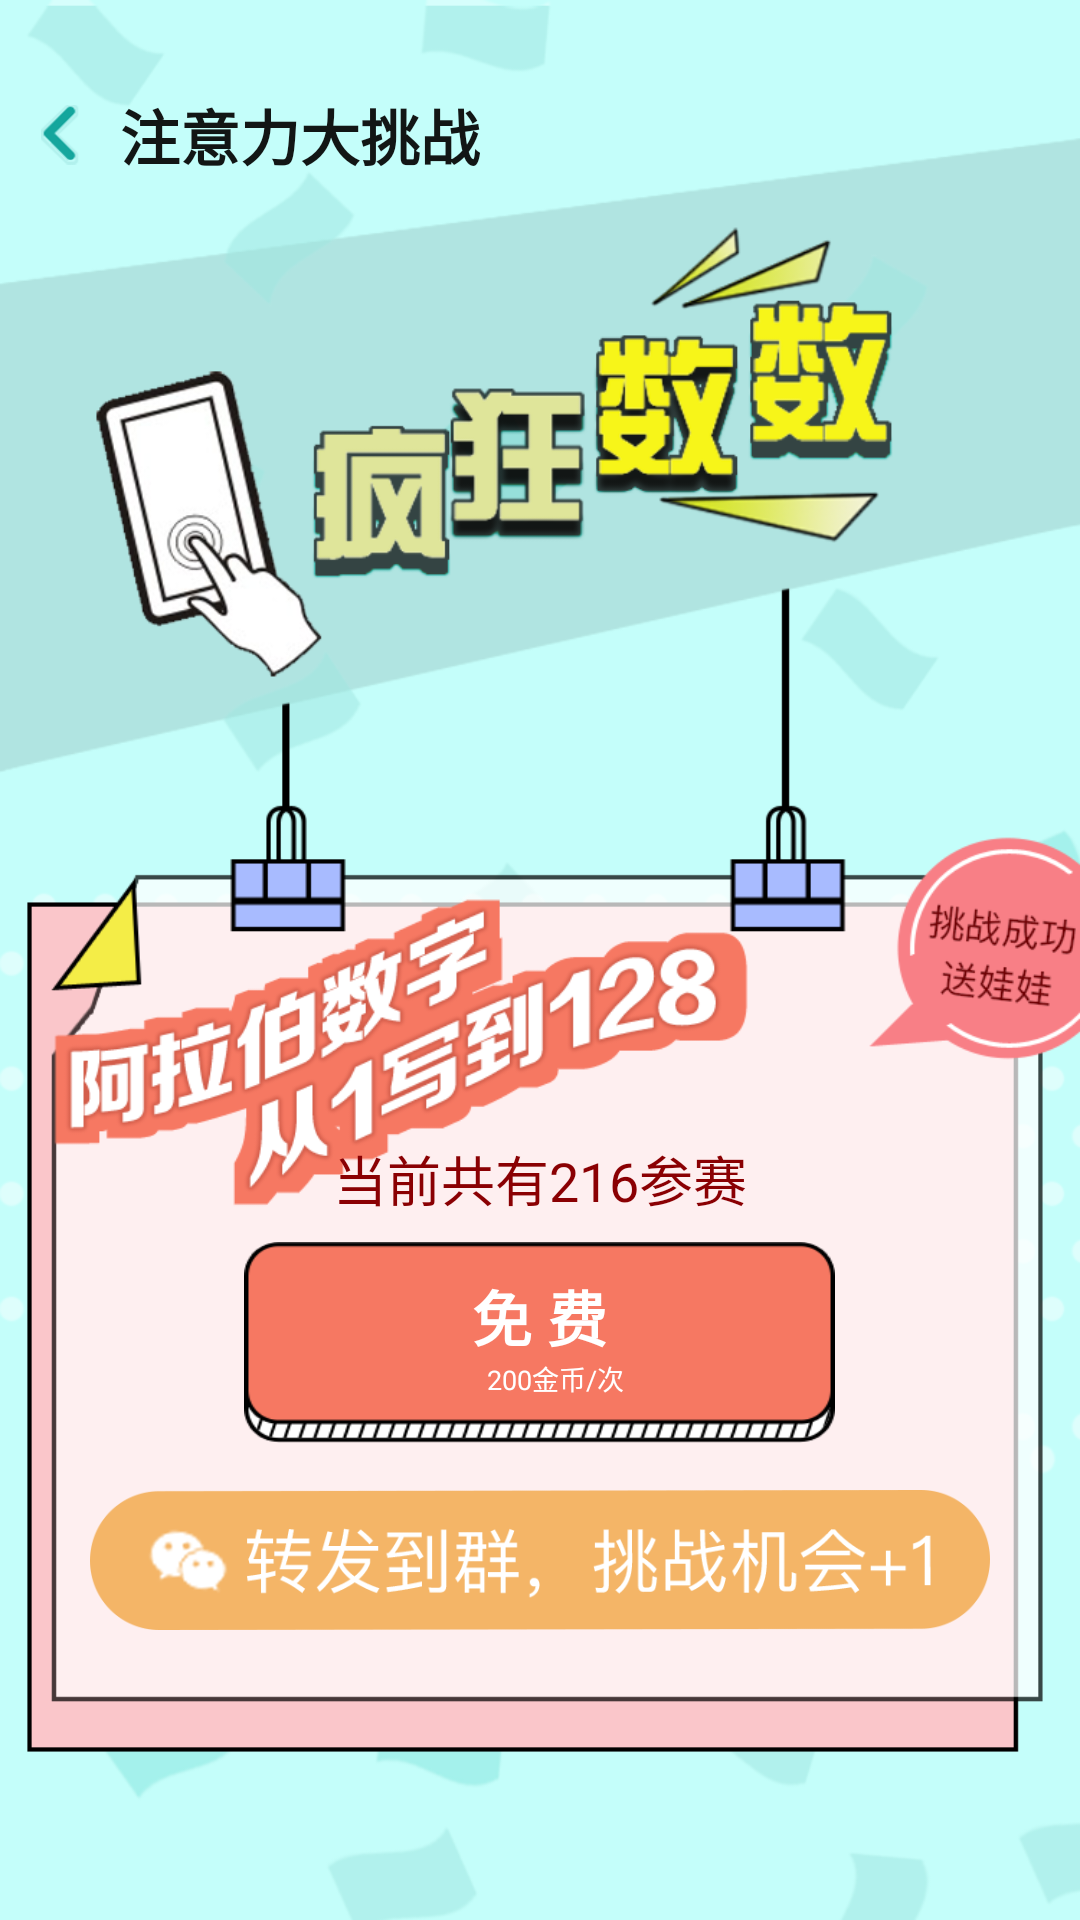

Screen size 1080x1920. Icon name, then its box in pixels as [left=x1, top=y1, right=x2, bottom=y2]:
attention back: [left=43, top=106, right=76, bottom=160]
